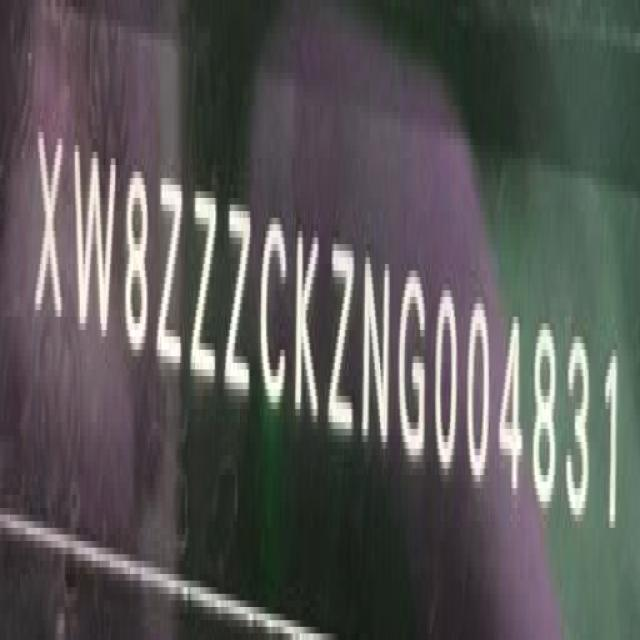0: (464, 298, 492, 486), (433, 286, 458, 474)
1: (603, 325, 620, 542)
3: (563, 330, 593, 533)
4: (498, 308, 522, 496)
8: (123, 168, 151, 356), (531, 328, 558, 508)
C: (260, 213, 288, 413)
G: (396, 256, 428, 466)
K: (290, 215, 322, 430)
N: (359, 247, 395, 462)
W: (69, 142, 121, 342)
X: (35, 122, 65, 342)
Z: (189, 174, 220, 398), (327, 230, 356, 447), (224, 183, 252, 406), (156, 166, 184, 379)
